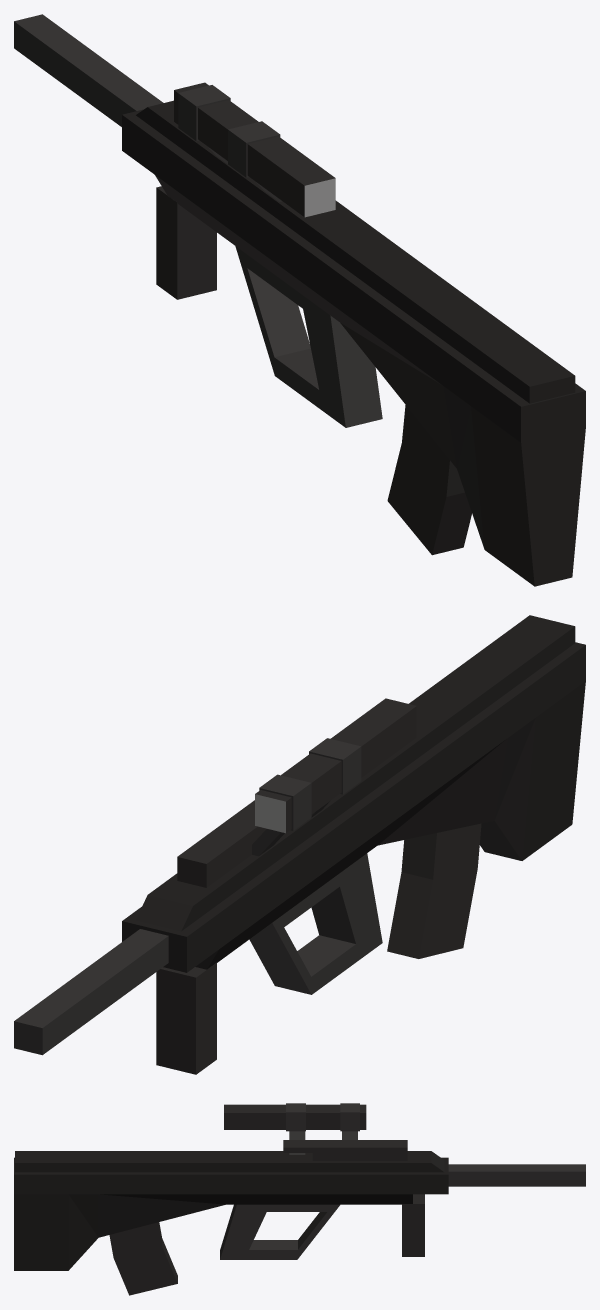
The model's file is AutoRifleUG.FBX.
3 views of the same model, one above another, from view 1: azimuth 30°, elevation 25°; view 2: azimuth 150°, elevation 25°; view 3: azimuth 270°, elevation 25° (orthographic). The views are drawn at different scales.
Visible parts, largest first — view 1: AutoRifleUG, AutoRifleGUscope, AutoRifleUGmag; view 2: AutoRifleUG, AutoRifleGUscope, AutoRifleUGmag, AutoRifleGUrail; view 3: AutoRifleUG, AutoRifleGUscope, AutoRifleUGmag, AutoRifleGUrail.
Part boxes in pixels (left/top/right/bottom): AutoRifleUG: left=14, top=14, right=585, bottom=586; AutoRifleGUscope: left=174, top=82, right=335, bottom=217; AutoRifleUGmag: left=387, top=405, right=471, bottom=555; AutoRifleUG: left=14, top=615, right=585, bottom=1074; AutoRifleGUscope: left=252, top=698, right=416, bottom=856; AutoRifleUGmag: left=387, top=823, right=481, bottom=958; AutoRifleGUrail: left=177, top=800, right=266, bottom=887; AutoRifleUG: left=14, top=1151, right=585, bottom=1270; AutoRifleGUscope: left=224, top=1103, right=366, bottom=1154; AutoRifleUGmag: left=109, top=1222, right=177, bottom=1295; AutoRifleGUrail: left=283, top=1140, right=407, bottom=1160.
Size of the model in its own units: 18.24 by 184 by 61.44.
